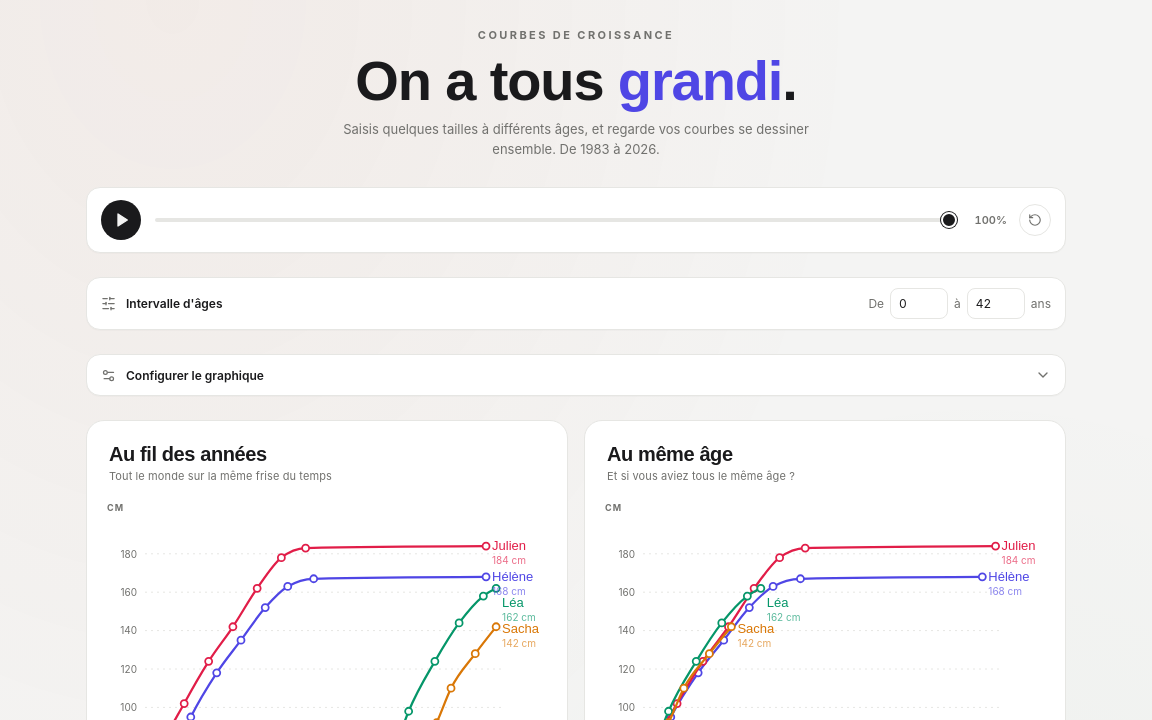
Test case: App › chart configuration › keeps the config panel collapsed until opened
Expected: the text "Configurer le graphique" is shown, top-left (126, 368), bottom-right (264, 383)
Expected: the field labelled "Afficher les points" is not shown
Click the button "Configurer le graphique".
click(195, 375)  # box top-left (87, 355), bottom-right (1065, 395)
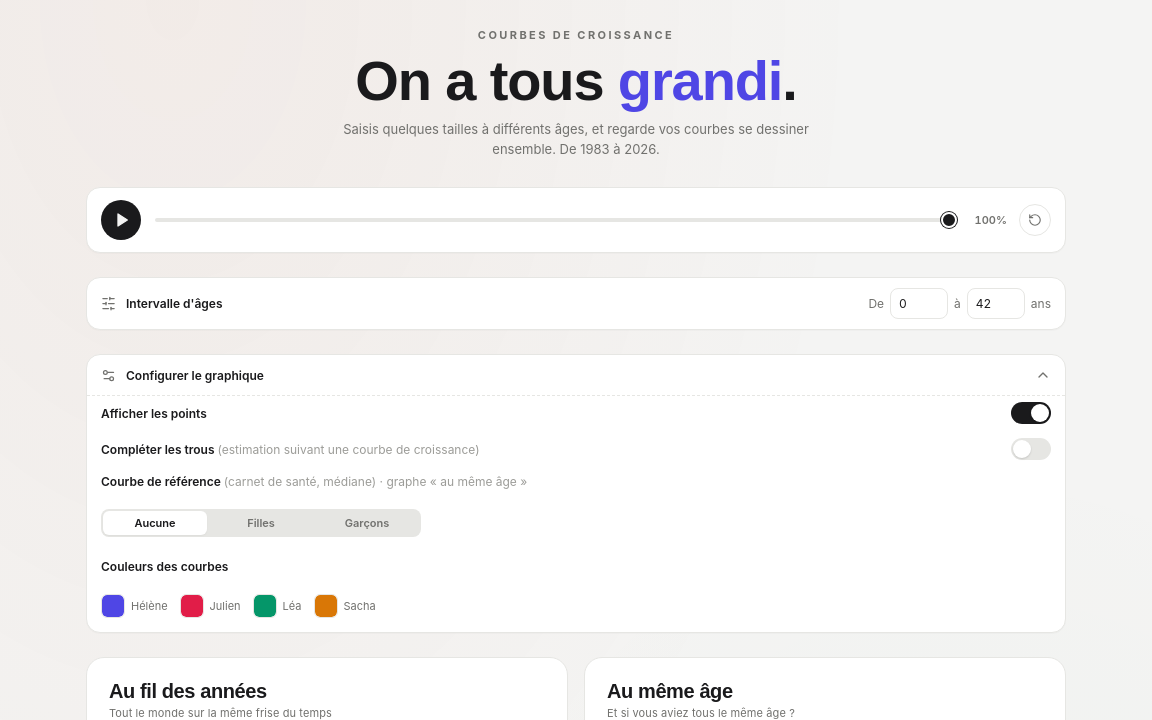
Expected: the switch named "Afficher les points" is shown, top-left (1011, 402), bottom-right (1051, 424)
